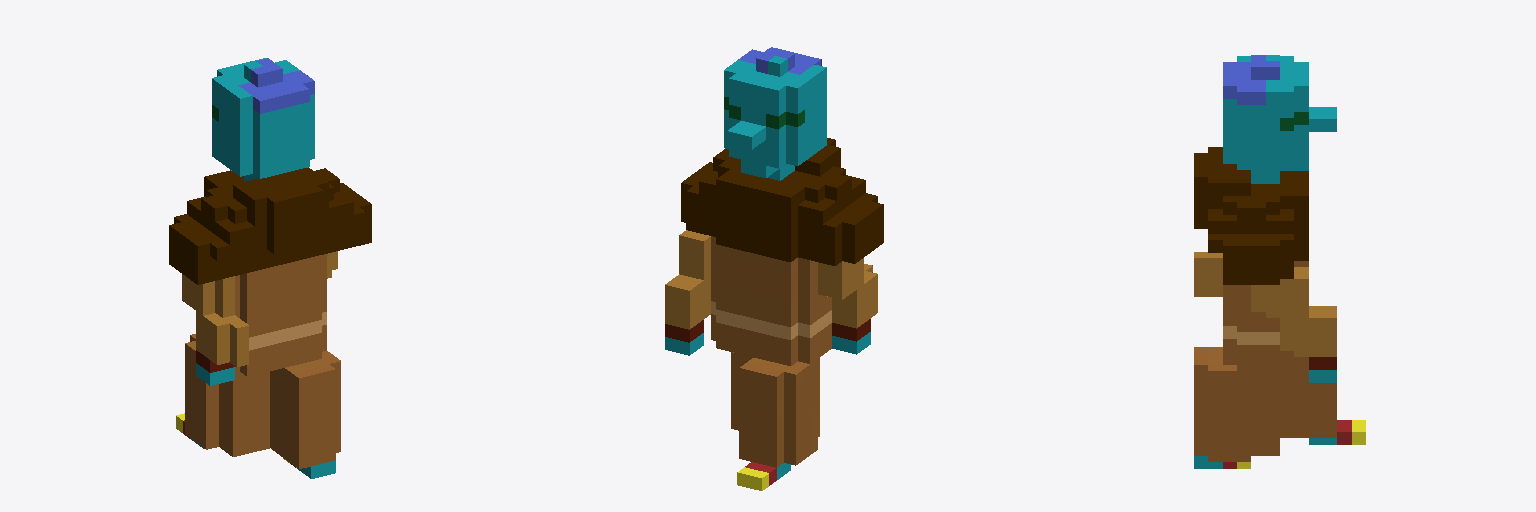
3 renders of one model, left to right at view 1: azimuth 30°, elevation 25°; view 2: azimuth 150°, elevation 25°; view 3: azimuth 270°, elevation 25°, orthographic.
Visible parts, largest first — view 1: Monkv2-walk3; view 2: Monkv2-walk3; view 3: Monkv2-walk3.
Boxes of the visible parts, box(x1,y1,x2,y2) form: Monkv2-walk3: box(169, 58, 371, 478); Monkv2-walk3: box(665, 47, 883, 490); Monkv2-walk3: box(1194, 55, 1365, 468).
Size of the model in its own units: 14 by 30 by 12.
Materials: 1 (1 with a texture image).